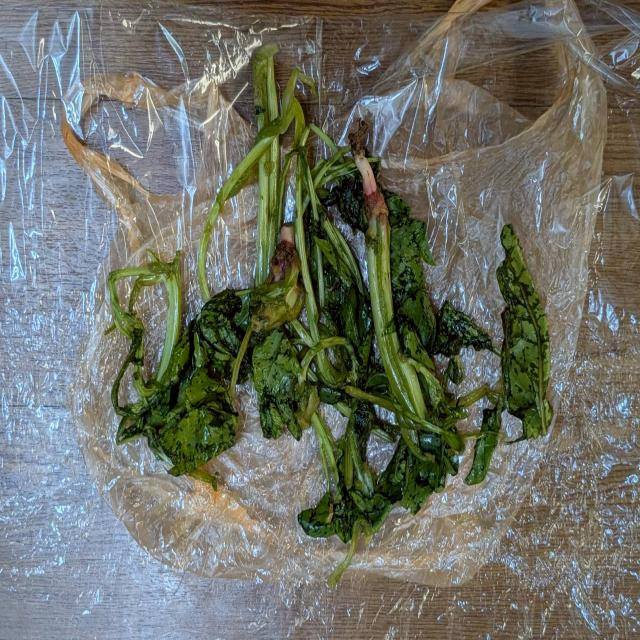rotten spinach: (64, 15, 588, 590), (192, 36, 344, 459), (330, 119, 480, 503), (88, 200, 278, 499), (462, 200, 589, 506)
